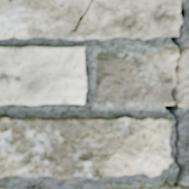brick: (0, 116, 171, 178), (0, 0, 180, 39), (0, 46, 85, 104)
broken_brick: (95, 47, 177, 107), (177, 46, 188, 107), (103, 182, 188, 188)
crack: (164, 2, 187, 186), (70, 0, 95, 33)
